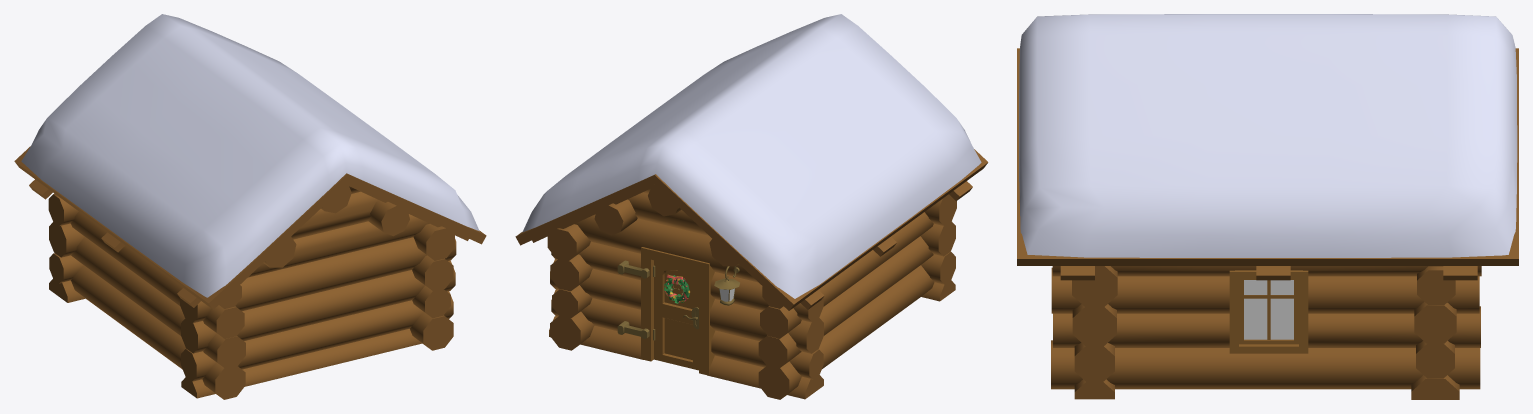
File: WINTER HOUSE.fbx
The picture shows the model from 3 angles, left to right: view 1: azimuth 30°, elevation 25°; view 2: azimuth 150°, elevation 25°; view 3: azimuth 270°, elevation 25°; orthographic projection. The views are drawn at different scales.
Visible parts, largest first — view 1: snow_roof, House; view 2: snow_roof, House, Door, Lamp, garland; view 3: snow_roof, House.
Boxes of the visible parts, x1,y1,x2,y2 form: snow_roof: (21,14,479,297); House: (14,146,486,399); snow_roof: (522,14,981,298); House: (515,149,988,399); Door: (653,260,698,370); Lamp: (714,266,739,305); garland: (664,274,689,303); snow_roof: (1019,14,1517,257); House: (1017,48,1518,399).
Size of the model in its own units: 602 by 484 by 721.
